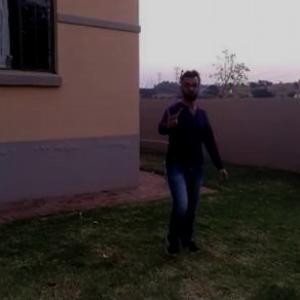takeoff-hand: (160, 100, 187, 131)
